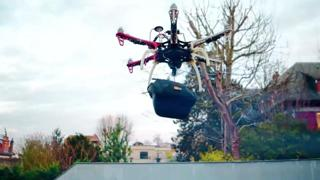UAV: (116, 3, 233, 95)
